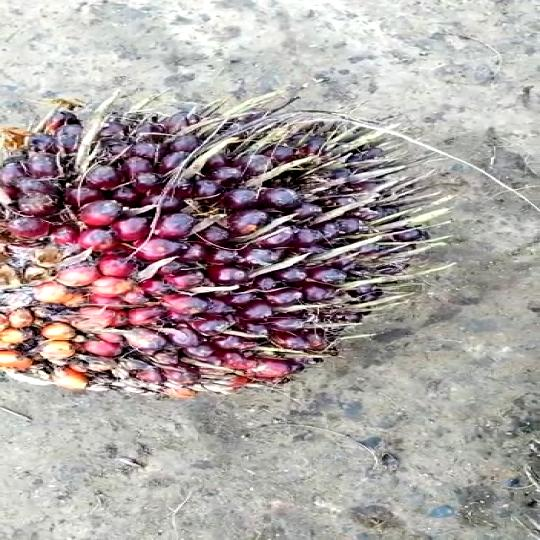kurang masak: (0, 98, 455, 406)
